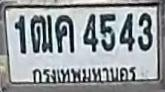1: (14, 14, 25, 54)
3: (137, 13, 152, 51)
4: (120, 13, 135, 52), (83, 14, 98, 52)
5: (100, 14, 116, 52)
A04: (55, 15, 74, 53)
A18: (30, 14, 53, 54)
BKK: (28, 63, 139, 85)
